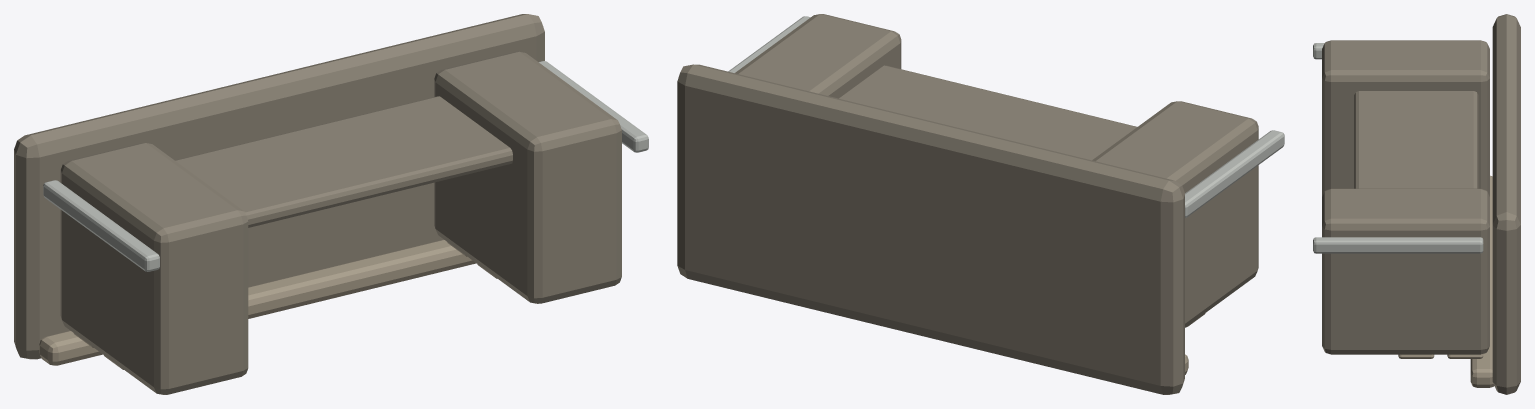
Rendered from OfficeDesk.fbx.
The picture shows the model from 3 angles, left to right: view 1: azimuth 30°, elevation 25°; view 2: azimuth 150°, elevation 25°; view 3: azimuth 270°, elevation 25°; orthographic projection. The views are drawn at different scales.
Visible parts, largest first — view 1: desk top, desk left pedestal, desk right pedestal, desk modesty panel, desk front edge, steel leg, steel leg.001; view 2: desk top, desk left pedestal, desk modesty panel, desk right pedestal, steel leg, steel leg.001; view 3: desk right pedestal, desk left pedestal, desk modesty panel, desk top, steel leg.001, desk front edge.
Part boxes in pixels (x1=…): desk top: x1=14, y1=14, x2=544, y2=359; desk left pedestal: x1=60, y1=143, x2=248, y2=394; desk right pedestal: x1=434, y1=51, x2=621, y2=303; desk modesty panel: x1=175, y1=96, x2=512, y2=227; desk front edge: x1=39, y1=239, x2=476, y2=365; steel leg: x1=43, y1=180, x2=159, y2=271; steel leg.001: x1=538, y1=61, x2=648, y2=152; desk top: x1=677, y1=64, x2=1184, y2=394; desk left pedestal: x1=1092, y1=101, x2=1258, y2=327; desk modesty panel: x1=839, y1=65, x2=1136, y2=160; desk right pedestal: x1=735, y1=14, x2=901, y2=98; steel leg: x1=1185, y1=130, x2=1284, y2=217; steel leg.001: x1=728, y1=16, x2=810, y2=72; desk right pedestal: x1=1322, y1=188, x2=1489, y2=354; desk left pedestal: x1=1322, y1=40, x2=1489, y2=196; desk modesty panel: x1=1354, y1=91, x2=1478, y2=188; desk top: x1=1492, y1=14, x2=1520, y2=394; steel leg.001: x1=1313, y1=237, x2=1483, y2=253; desk front edge: x1=1470, y1=175, x2=1494, y2=387.
Size of the model in its own units: 192 by 78 by 80.5.
